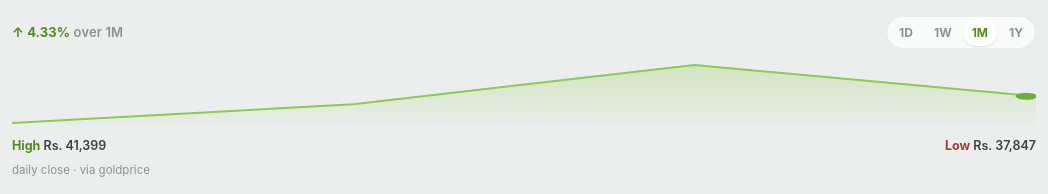
Test: what the chart reports › shows a rise as positive and a fall as negative
Expected: the text "↑ 4.33% over 1M" is shown, [12,23,123,42]
What coordinates should you click on to do the following:
click the tab "1D"
I would click on:
 (906, 33)
Its box is [889,19,923,46].
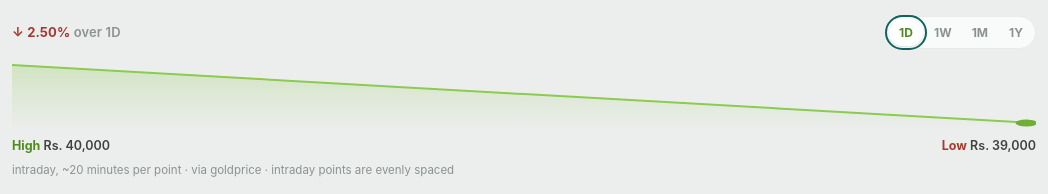
Expected: the text "↓ 2.50% over 1D" is shown, [12,23,121,42]
